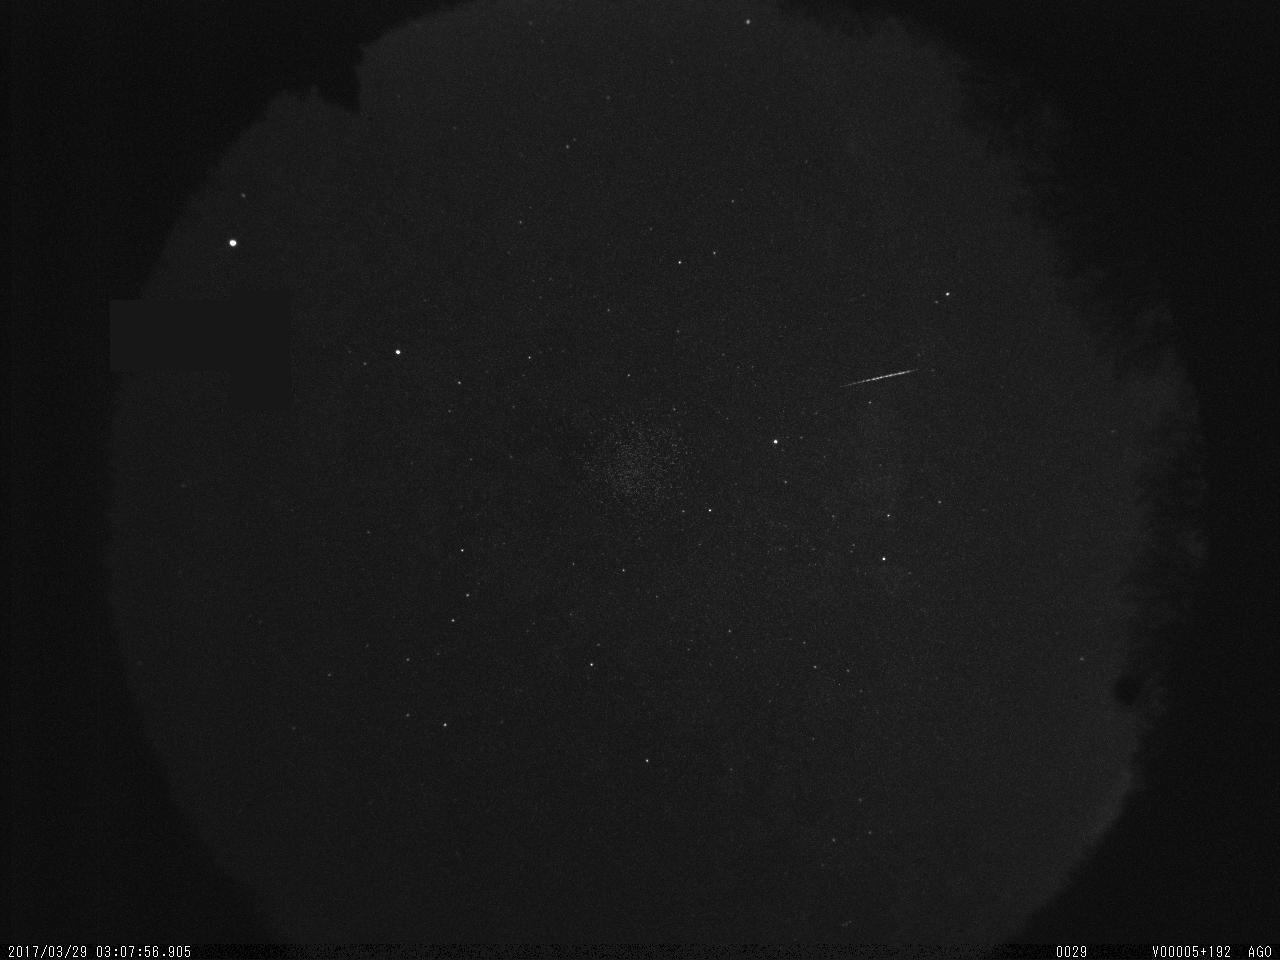meteor: (818, 362, 924, 396)
